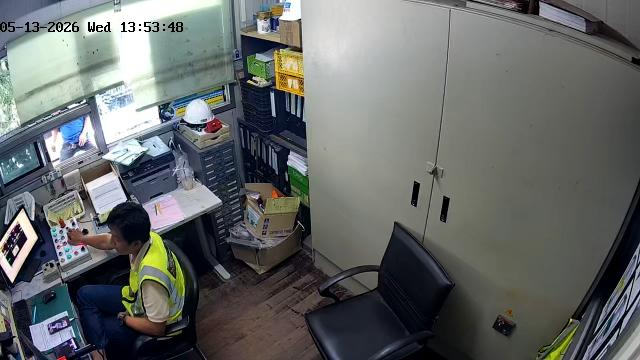Head: (107, 202, 150, 254)
People: (69, 202, 184, 350)
Phone: (54, 338, 78, 358), (48, 316, 70, 333)
